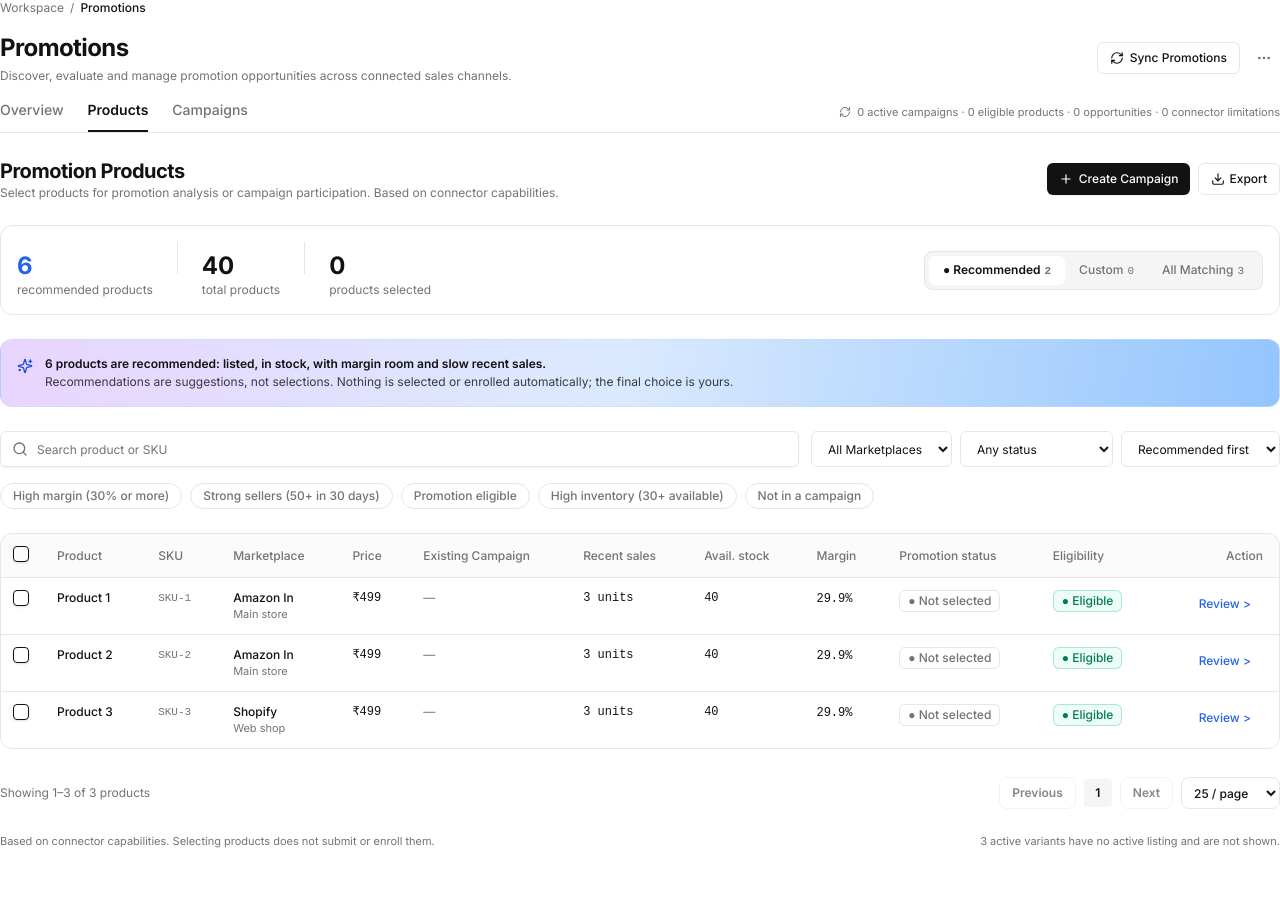
Test: Products tab › asks which marketplace when the selection spans several, then prefills that one
Expected: the text "Product 1" is shown, [57,590,110,605]
Click the checkbox named "Select all on this page". click: (21, 554)
box: [13,546,29,562]
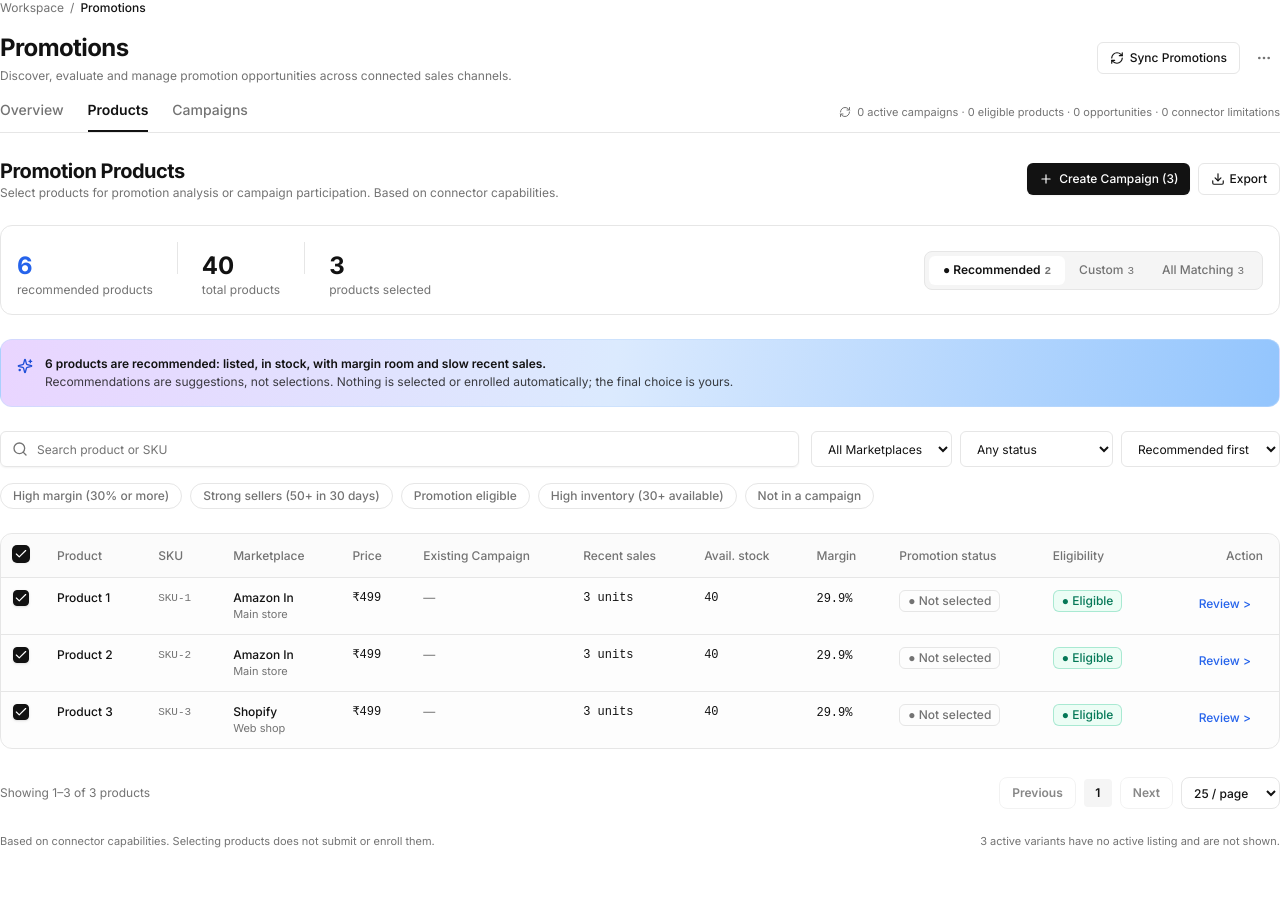
Click the button "Create Campaign (3)". click: (1109, 179)
box: [1027,163,1190,195]
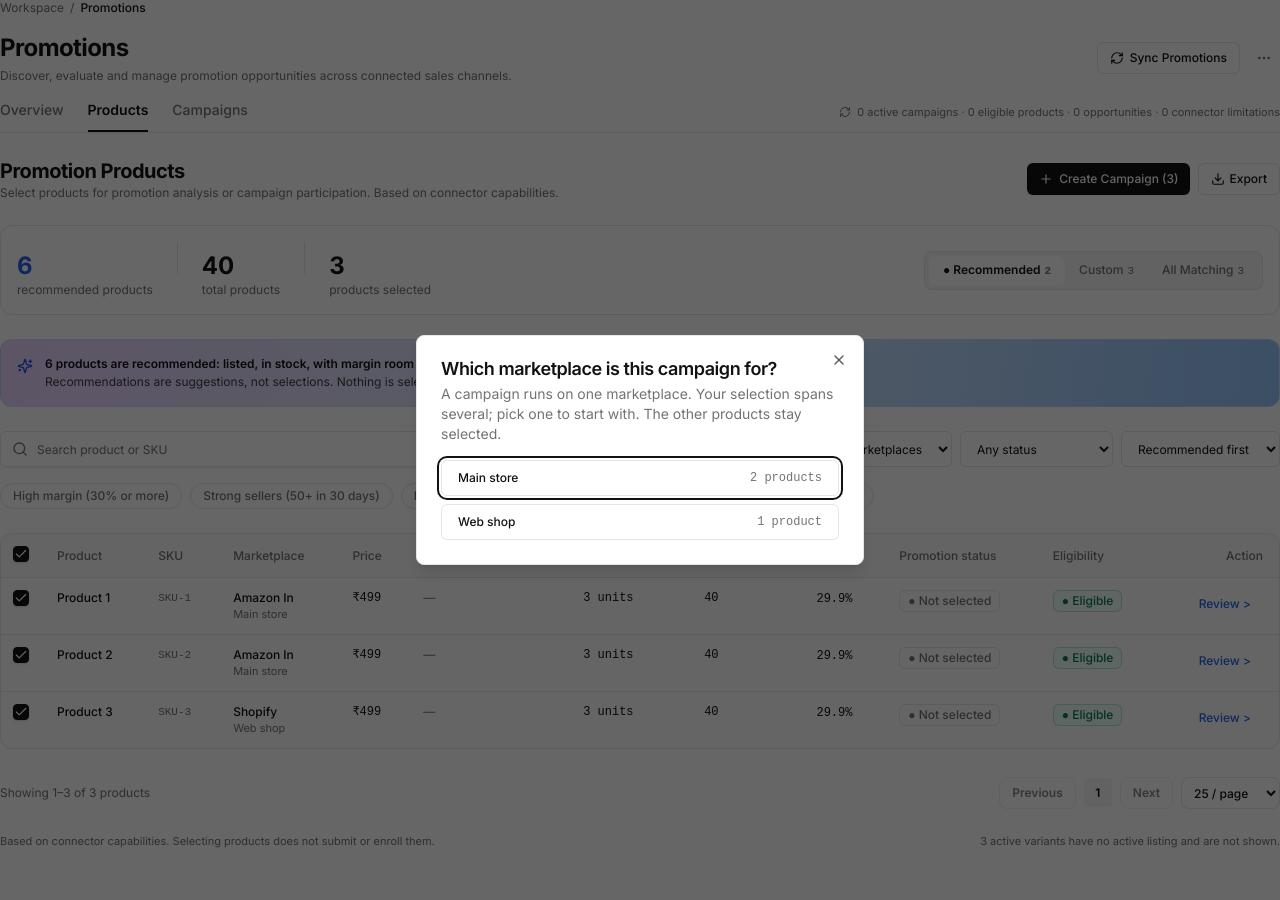
Now the heading "Which marketplace is this campaign for?" is shown, box [441,358,777,379]
Click the button "Web shop 1 product". click: (487, 522)
box: [441,504,839,540]
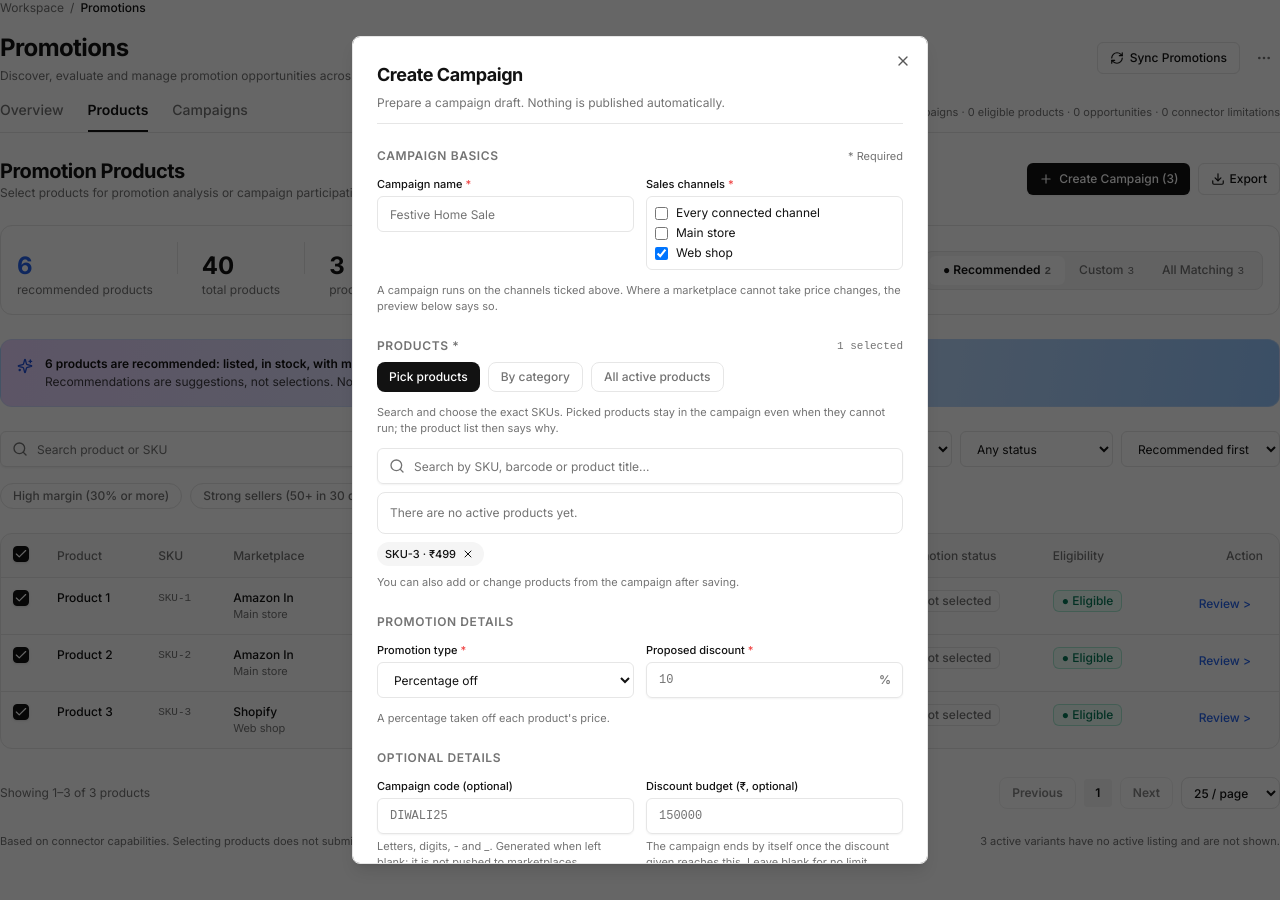
Now the text "SKU-3 · ₹499" is shown, box [377,542,484,566]
Now the checkbox labelled "Web shop" is checked, box [655,246,668,260]
Now the checkbox labelled "Main store" is not checked, box [655,226,668,240]
